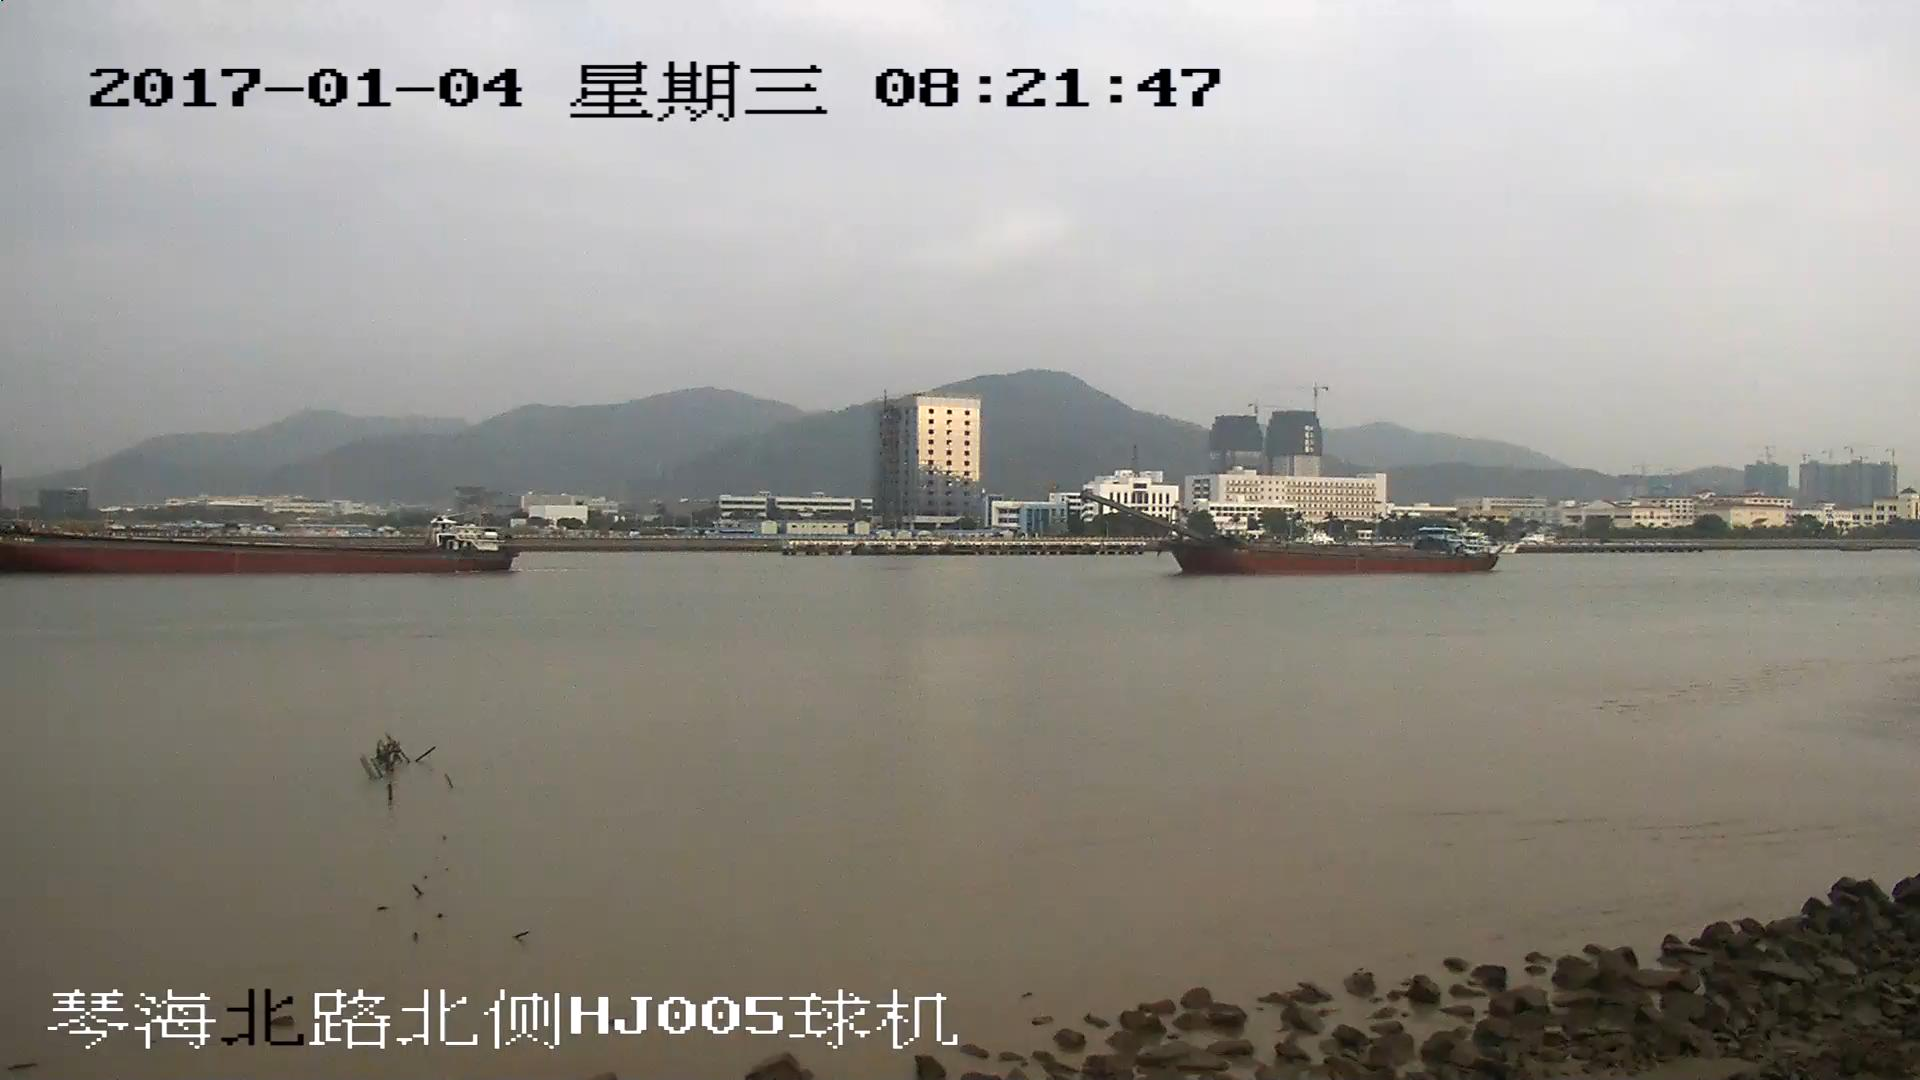bulk cargo carrier: (1084, 492, 1497, 572), (1, 520, 514, 572)
